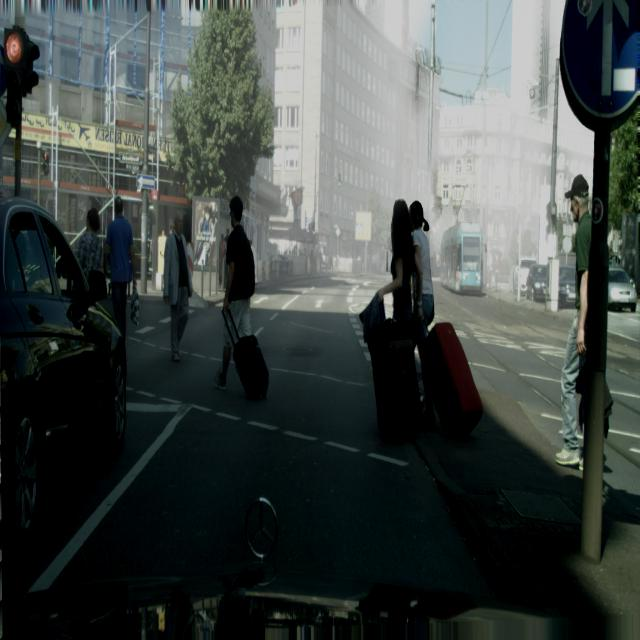motorcycle: (440, 222, 483, 294)
person: (409, 199, 486, 443), (362, 191, 424, 452), (215, 195, 269, 403), (554, 178, 592, 466), (162, 209, 194, 362), (105, 195, 136, 341), (76, 208, 106, 300), (218, 233, 227, 288), (493, 255, 500, 289)
truck: (1, 194, 128, 559), (608, 266, 638, 312), (514, 256, 537, 297), (526, 264, 548, 302)
